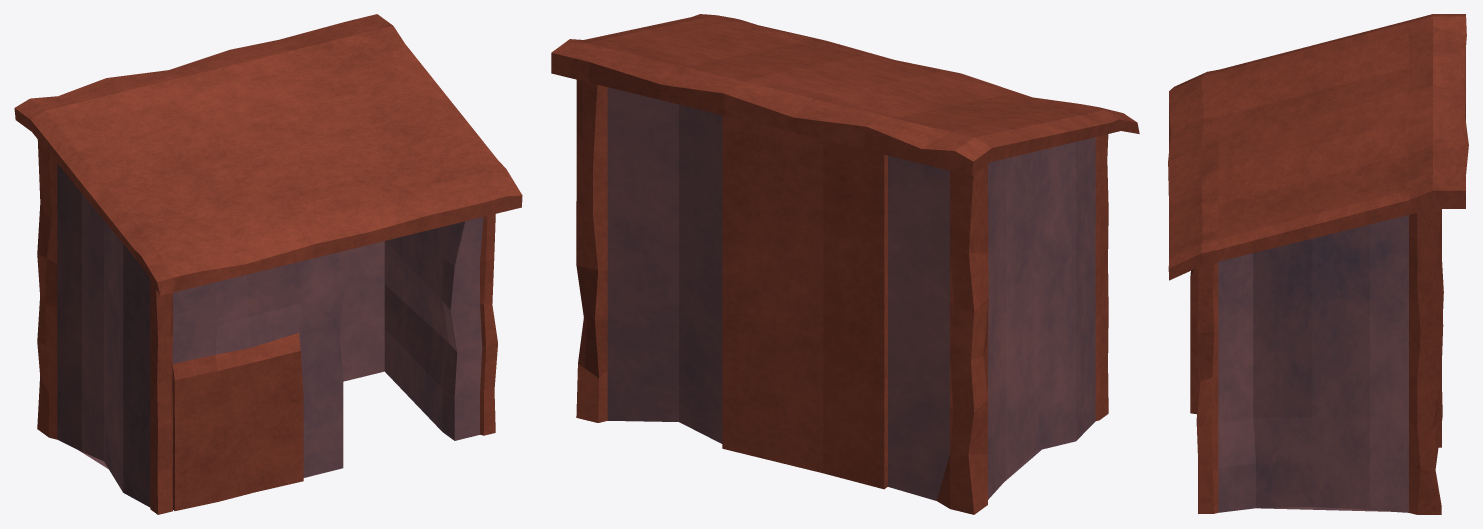
The model's file is Shack(S1).fbx.
3 renders of one model, left to right at view 1: azimuth 30°, elevation 25°; view 2: azimuth 150°, elevation 25°; view 3: azimuth 270°, elevation 25°, orthographic. The views are drawn at different scales.
Parts seen in each view (by area): view 1: Cube; view 2: Cube; view 3: Cube.
Part boxes in pixels (x1,y1,x2,y2): Cube: [14, 14, 522, 514]; Cube: [551, 14, 1139, 514]; Cube: [1168, 14, 1468, 514].
Bounding box in the file's own units: 514 × 440 × 359.
